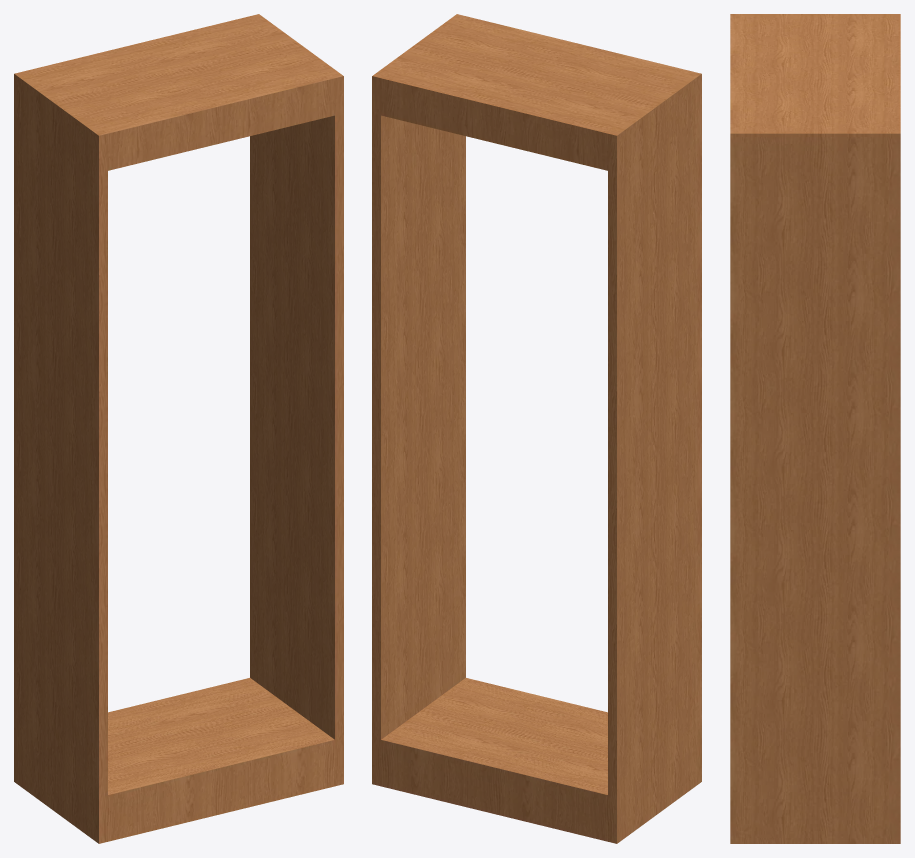
File: cabinet.glb
3 renders of one model, left to right at view 1: azimuth 30°, elevation 25°; view 2: azimuth 150°, elevation 25°; view 3: azimuth 270°, elevation 25°, orthographic.
Bounding box in the file's own units: 0.55 × 1.52 × 0.33.
2 materials, 2 textured.
